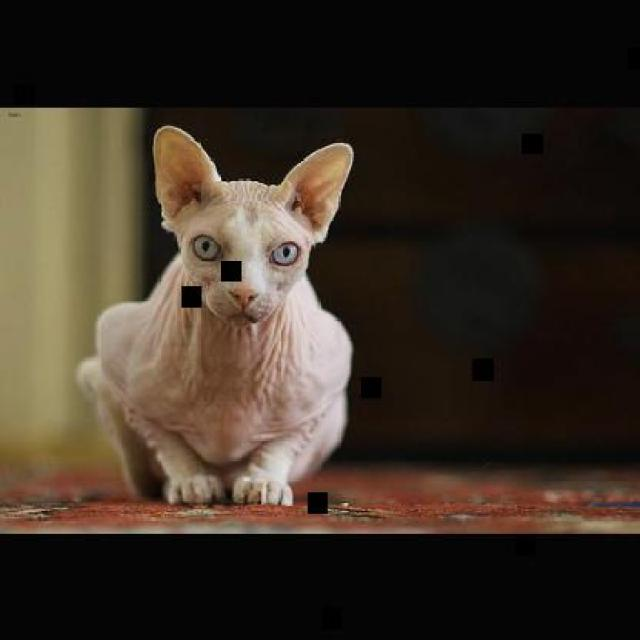unauthorized: (74, 123, 355, 506)
